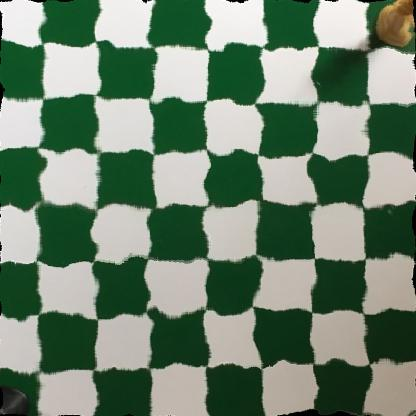black-king: (0, 382, 35, 416)
white-king: (372, 0, 416, 50)
